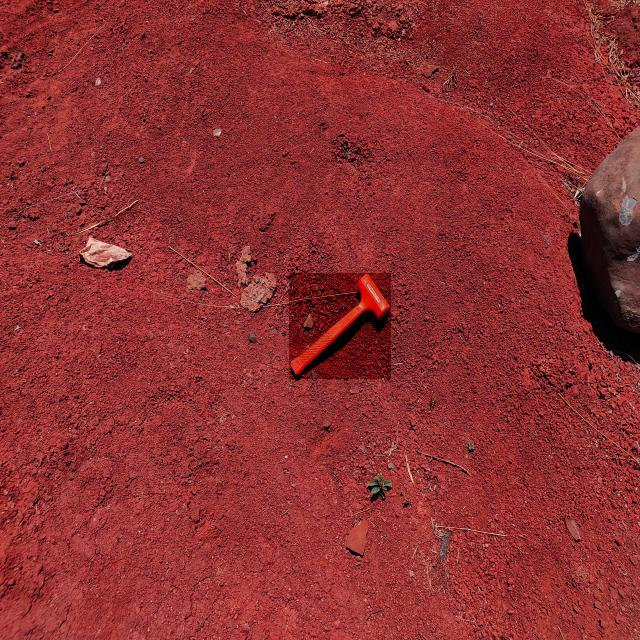Orange_hammer: (289, 274, 391, 379)
